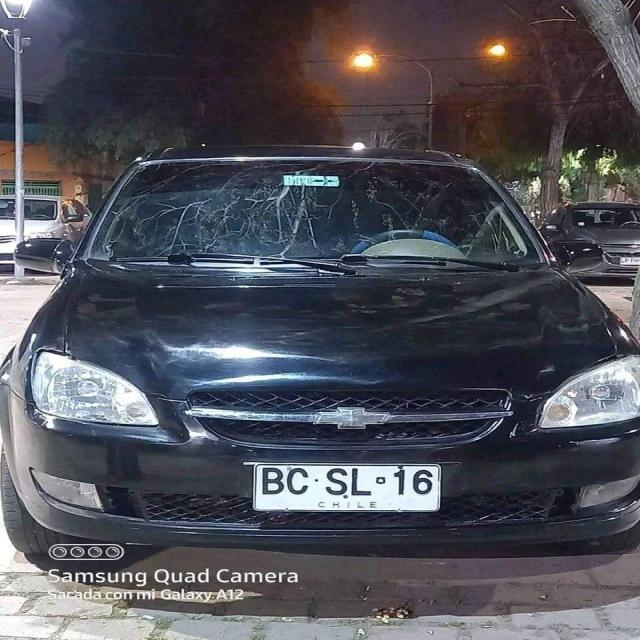patente: (250, 461, 442, 513)
